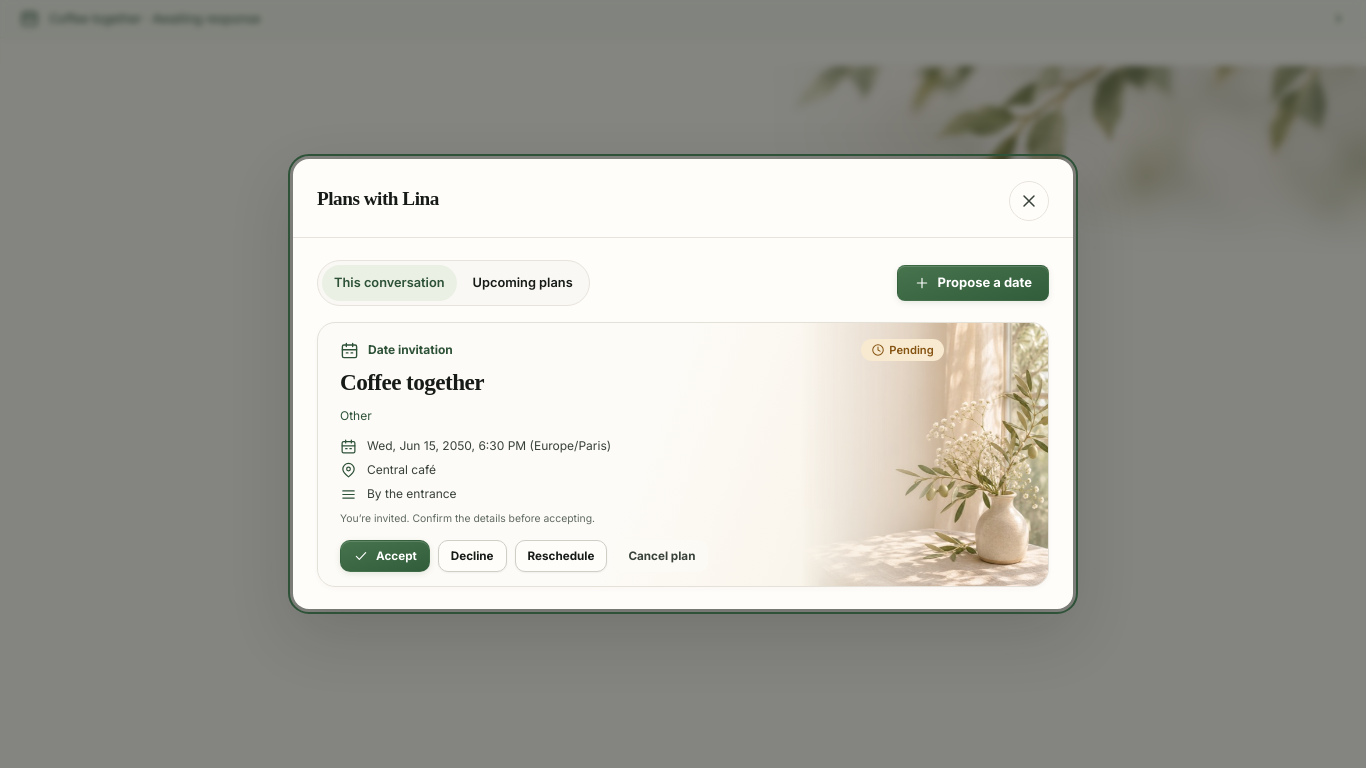
Scenario: invitees can accept and the updated confirmed state replaces response actions
expect the heading "Coffee together" is shown: met, box [340,369,484,395]
Click the button "Accept" at [385, 556], box [340,540,430,572]
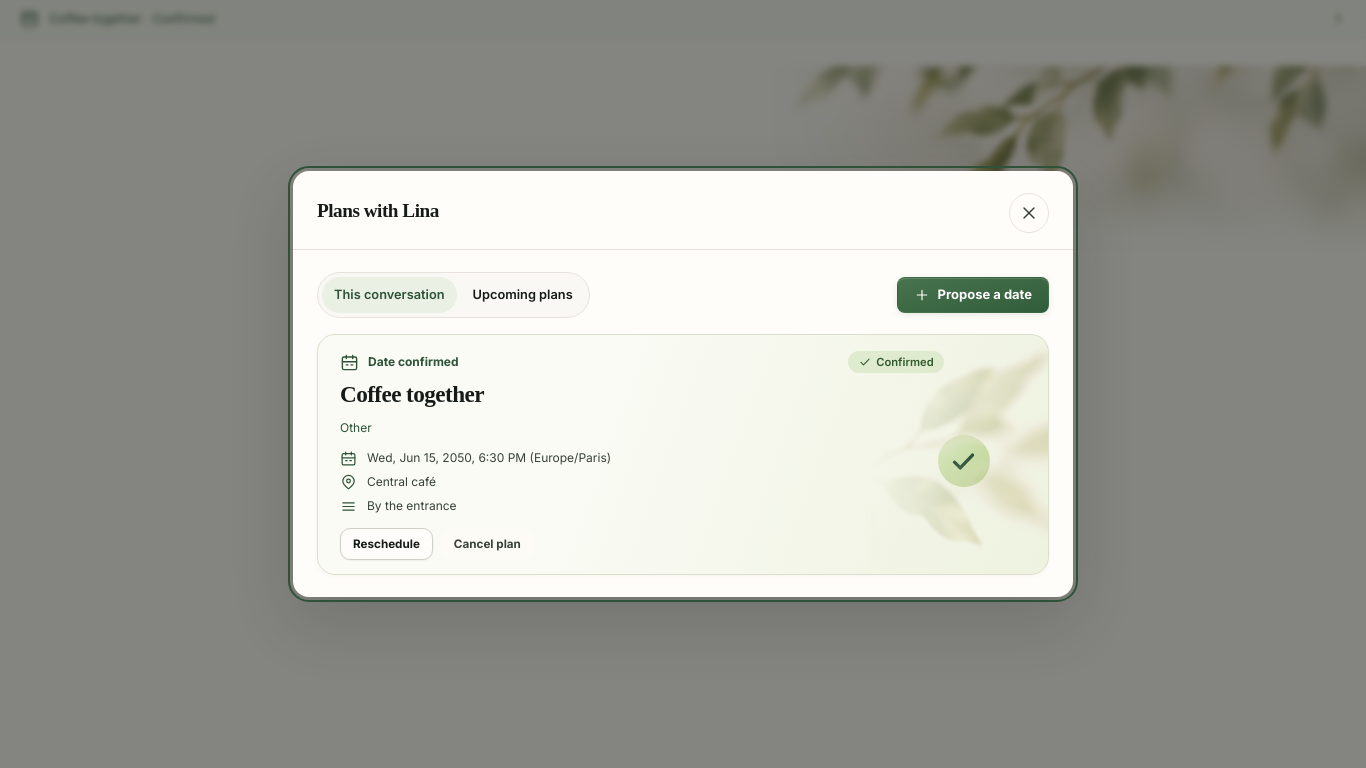
expect the text "Confirmed" is shown: met, box [848,351,944,373]
expect the text "accept" is gone: met
